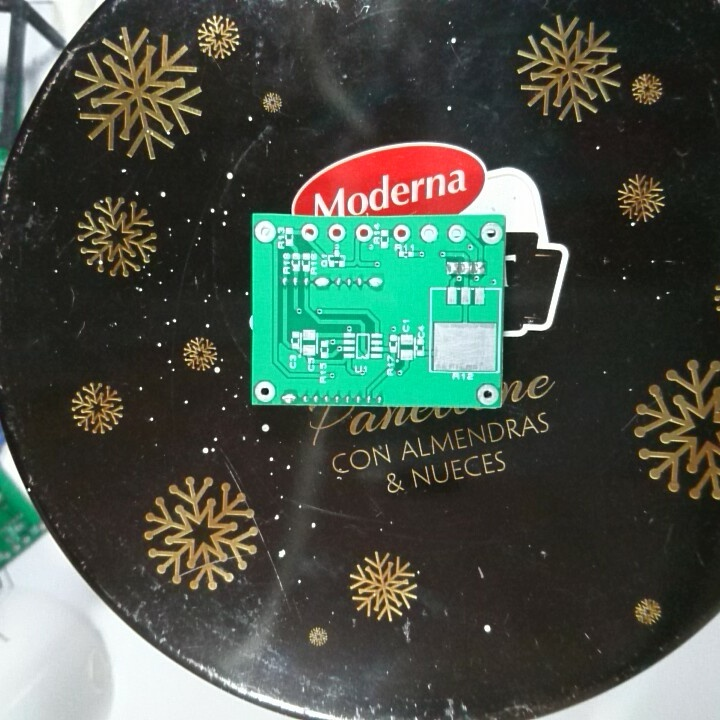F: (251, 378, 277, 405), (253, 217, 278, 245), (474, 381, 499, 407), (479, 220, 503, 247), (445, 223, 468, 246), (298, 221, 320, 242), (353, 221, 374, 243), (418, 222, 439, 244), (391, 222, 411, 245), (327, 222, 347, 241)
P: (365, 273, 385, 292), (312, 273, 331, 291), (279, 389, 299, 405)
